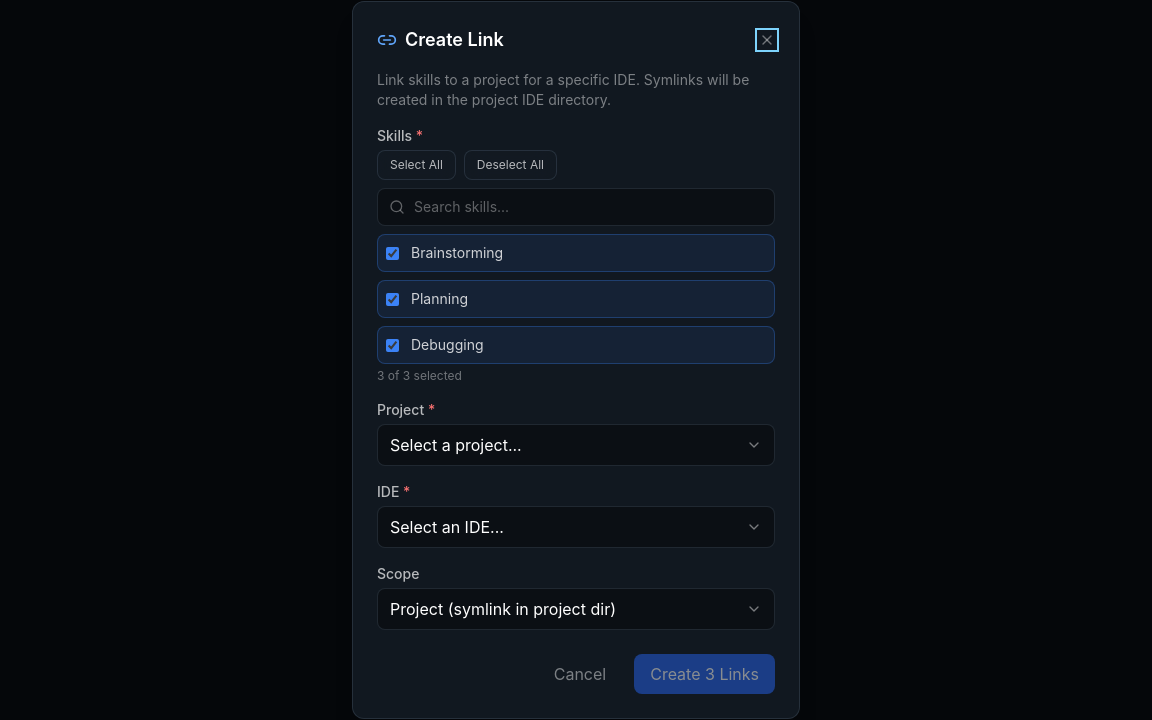
Test: CreateLinkDialog › filters skills by search query
Expected: the text "Brainstorming" is shown, [411, 243, 503, 263]
Expected: the text "Planning" is shown, [411, 289, 468, 309]
Type search query
In the field with placeholder "Search skills...": (576, 207) [377, 188, 775, 226], type "plan"
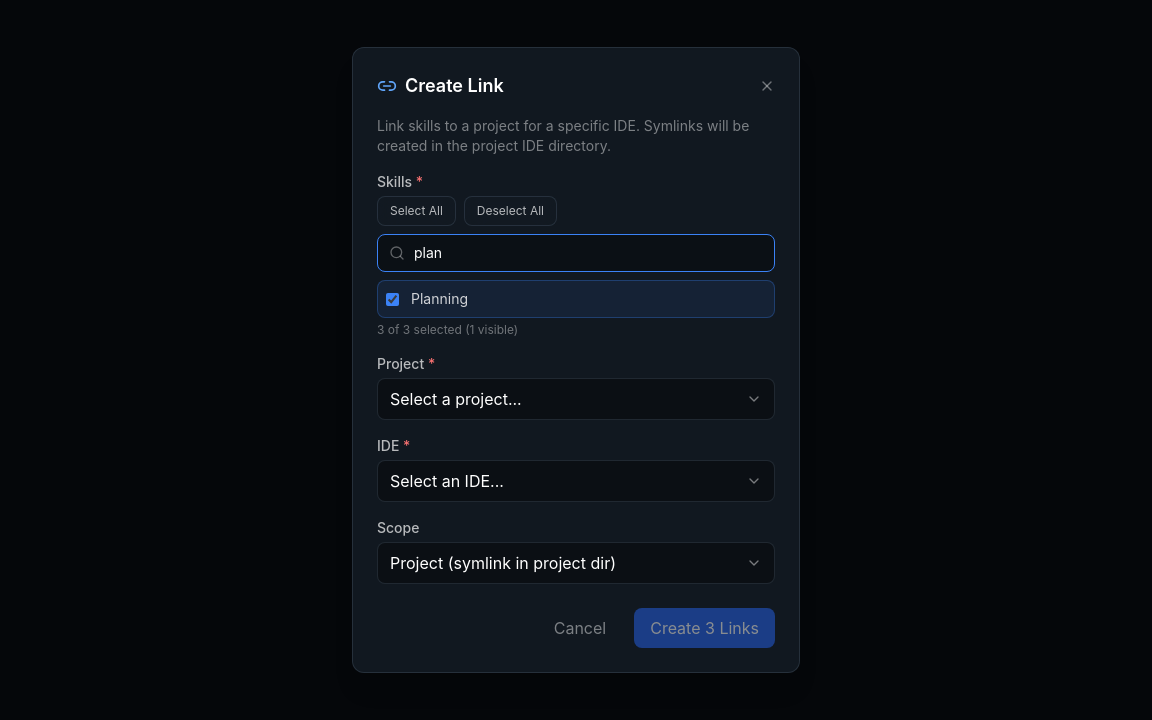
Expected: the text "Planning" is shown, [411, 289, 468, 309]
Result: the text "Brainstorming" is gone
Result: the text "Debugging" is gone
